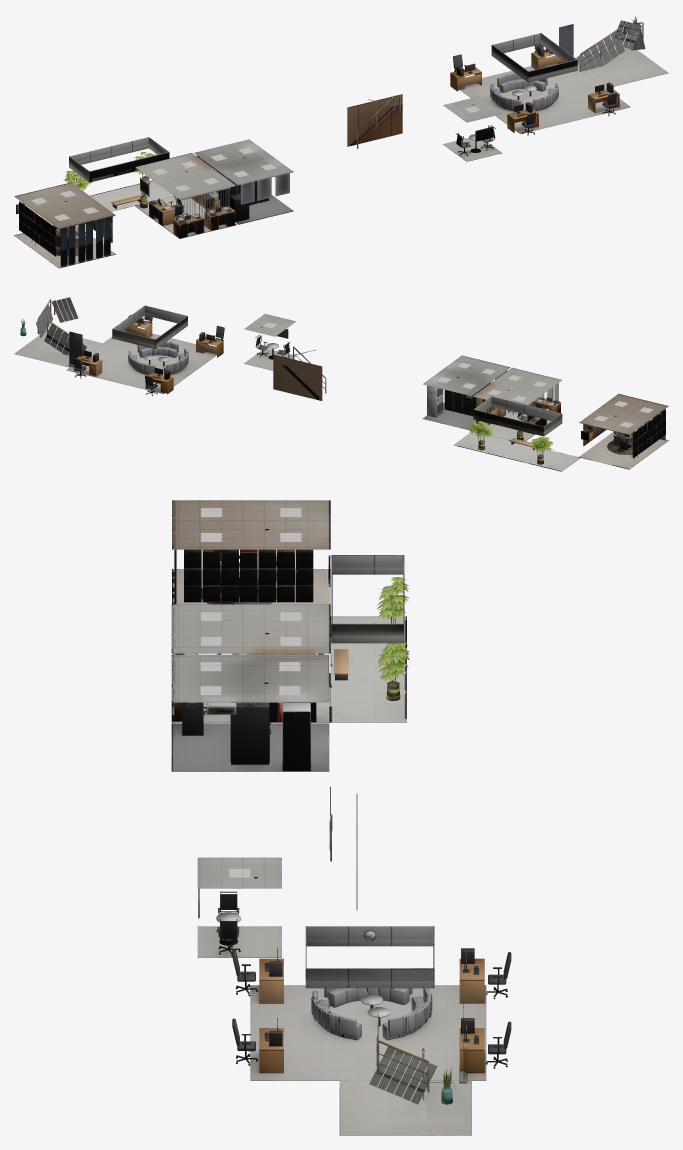
The model's file is world_in0.glb.
3 renders of one model, top to bottom at view 1: azimuth 30°, elevation 25°; view 2: azimuth 150°, elevation 25°; view 3: azimuth 270°, elevation 25°, orthographic. The views are drawn at different scales.
Parts seen in each view (by area): view 1: W_in0; view 2: W_in0; view 3: W_in0.
Boxes of the visible parts, <box> form: W_in0: <box>14,15,668,268</box>; W_in0: <box>14,297,668,471</box>; W_in0: <box>171,500,511,1135</box>.
Bounding box in the file's own units: 37.42 × 3.33 × 9.5.
Materials: 1 (1 with a texture image).
